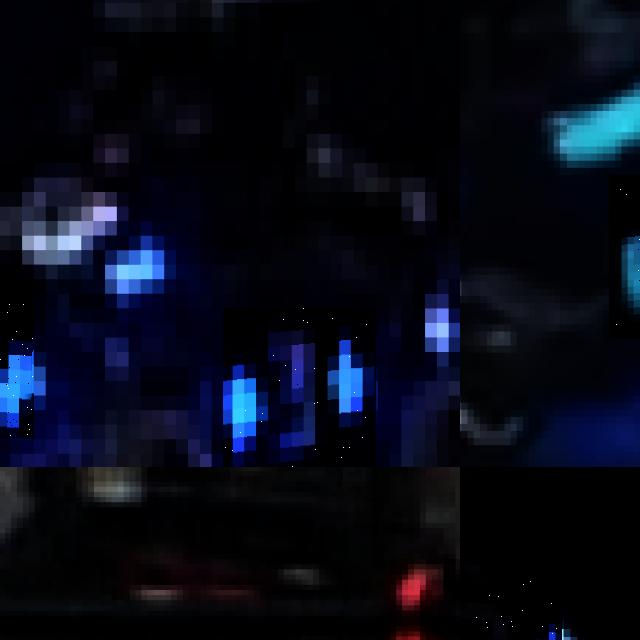B2: (460, 581, 563, 640)
B3: (223, 308, 377, 467), (0, 279, 33, 439)
B5: (609, 175, 640, 338)
